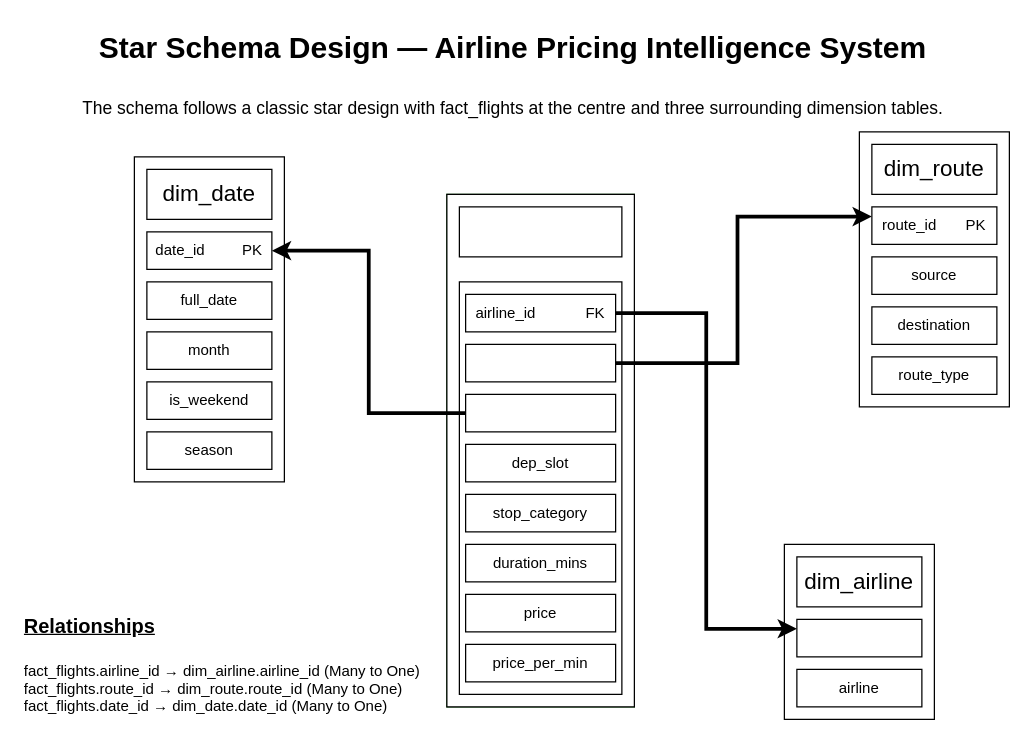
The diagram is 1031 pixels wide and 744 high, and some of its shapes have lost their labels. The shapes that lost their labels are listed below. From the top down, each one's centre as x and y in pixels, then its label:
At [540,231]: "fact_flights".
At [540,362]: "route_id FK".
At [540,412]: "date_id FK".
At [859,637]: "airline_id PK".
